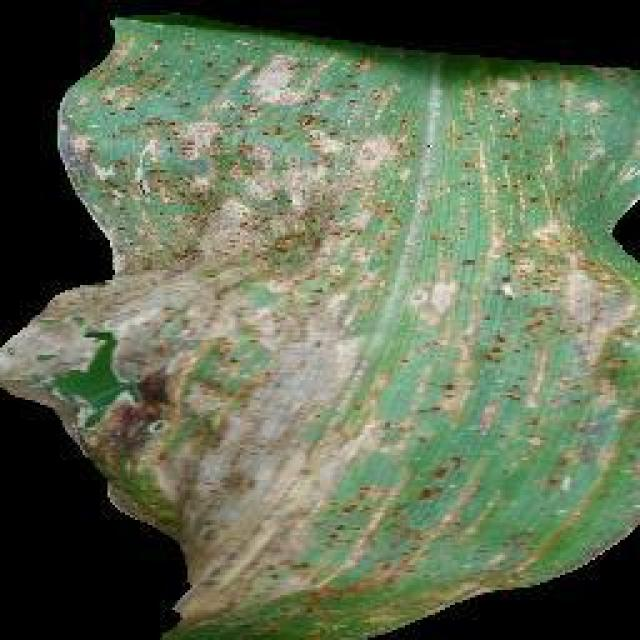Corn Common Rust: (67, 90, 550, 557)
